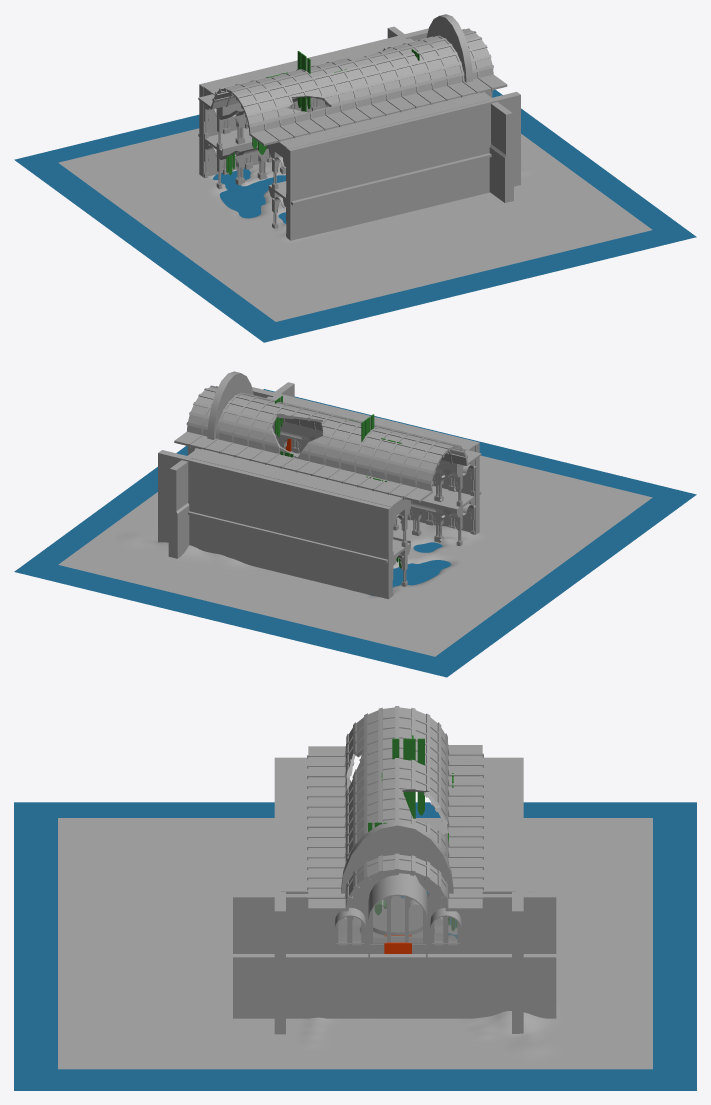
The model's file is spawn_area_greybox.fbx.
3 renders of one model, top to bottom at view 1: azimuth 30°, elevation 25°; view 2: azimuth 150°, elevation 25°; view 3: azimuth 270°, elevation 25°, orthographic. The views are drawn at different scales.
Parts seen in each view (by area): view 1: Plane1, Plane.002, pCube201, polySurface6860, polySurface6839, polySurface6851, pCube223, pCube213, pCube219, polySurface6870; view 2: Plane1, Plane.002, pCube223, polySurface6860, polySurface6839, polySurface6851, pCube213, pCube201, pCube219; view 3: Plane1, Plane.002, polySurface6851, polySurface6860, pCube213, polySurface6839, polySurface6846, pCube223, pCube201, pCylinder92, pCylinder96, pCube212 (+1 smaller).
Part boxes in pixels (x1=…): Plane1: x1=58, y1=128, x2=652, y2=321; Plane.002: x1=14, y1=89, x2=696, y2=342; pCube201: x1=286, y1=92, x2=520, y2=240; polySurface6860: x1=198, y1=28, x2=507, y2=145; polySurface6839: x1=268, y1=92, x2=491, y2=235; polySurface6851: x1=387, y1=14, x2=513, y2=202; pCube223: x1=199, y1=28, x2=428, y2=177; pCube213: x1=203, y1=37, x2=409, y2=113; pCube219: x1=198, y1=128, x2=257, y2=153; polySurface6870: x1=216, y1=108, x2=244, y2=149; Plane1: x1=58, y1=455, x2=652, y2=656; Plane.002: x1=14, y1=389, x2=696, y2=677; pCube223: x1=158, y1=450, x2=392, y2=599; polySurface6860: x1=174, y1=385, x2=481, y2=502; polySurface6839: x1=270, y1=395, x2=481, y2=545; polySurface6851: x1=168, y1=371, x2=294, y2=558; pCube213: x1=190, y1=449, x2=410, y2=517; pCube201: x1=252, y1=387, x2=479, y2=534; pCube219: x1=188, y1=511, x2=410, y2=563; Plane1: x1=58, y1=818, x2=652, y2=1069; Plane.002: x1=14, y1=802, x2=696, y2=1090; polySurface6851: x1=233, y1=821, x2=556, y2=1018; polySurface6860: x1=307, y1=706, x2=483, y2=911; pCube213: x1=482, y1=757, x2=515, y2=893; polySurface6839: x1=269, y1=757, x2=308, y2=893; polySurface6846: x1=338, y1=895, x2=457, y2=945; pCube223: x1=512, y1=757, x2=523, y2=1033; pCube201: x1=274, y1=757, x2=285, y2=1034; pCylinder92: x1=368, y1=873, x2=427, y2=964; pCylinder96: x1=360, y1=908, x2=434, y2=936; pCube212: x1=392, y1=738, x2=424, y2=818.
Size of the model in its own units: 1153 by 471 by 1153.
